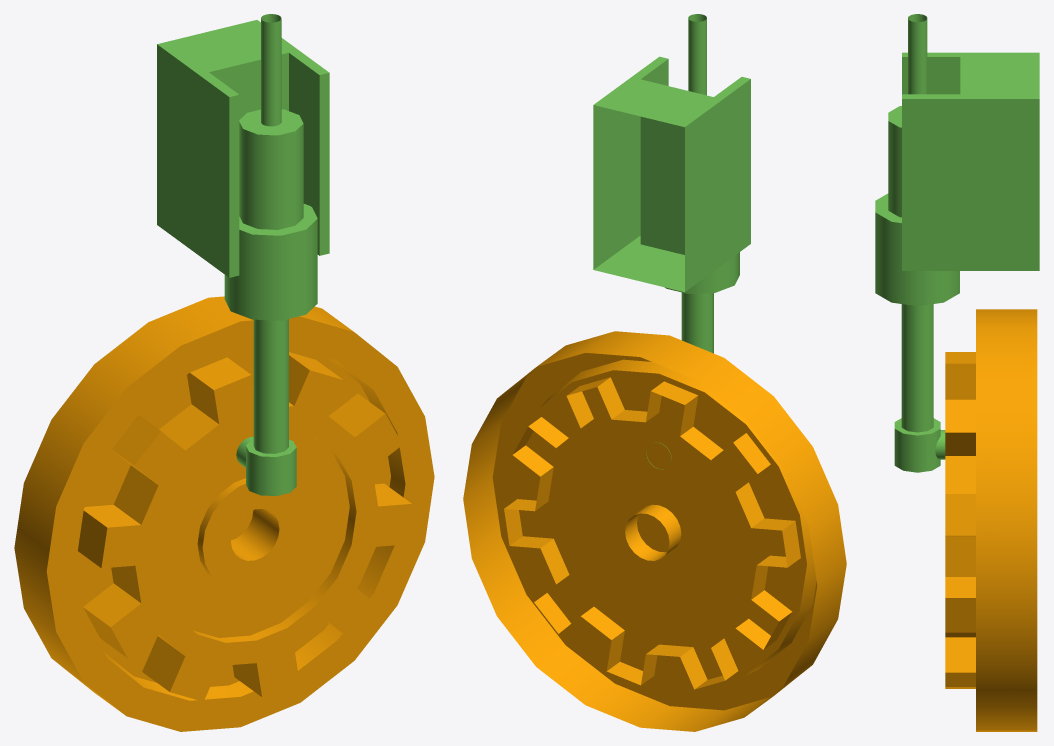
The model's file is Mesh_WorldDecor_Piston.fbx.
The picture shows the model from 3 angles, left to right: view 1: azimuth 30°, elevation 25°; view 2: azimuth 150°, elevation 25°; view 3: azimuth 270°, elevation 25°; orthographic projection. The views are drawn at different scales.
Visible parts, largest first — view 1: Gear, Gear_Shell, Piston_Holder, Piston_Case, Piston_Rod, Piston_Exit_Rod; view 2: Gear_Shell, Piston_Holder, Gear, Piston_Rod, Piston_Exit_Rod, Piston_Case; view 3: Piston_Holder, Gear_Shell, Gear, Piston_Rod, Piston_Case, Piston_Exit_Rod.
Part boxes in pixels (x1,y1,x2,y2): Gear: (78,352,411,701); Gear_Shell: (14,296,434,731); Piston_Holder: (157,20,329,277); Piston_Case: (224,109,317,320); Piston_Rod: (246,319,296,495); Piston_Exit_Rod: (261,14,281,126); Gear_Shell: (463,331,846,731); Piston_Holder: (593,56,750,292); Gear: (504,377,800,689); Piston_Rod: (681,292,713,353); Piston_Exit_Rod: (688,14,706,95); Piston_Case: (665,252,739,293); Piston_Holder: (902,52,1039,270); Gear_Shell: (976,309,1037,731); Gear: (945,352,975,688); Piston_Rod: (894,304,940,472); Piston_Case: (875,106,959,306); Piston_Exit_Rod: (908,14,927,94).
Size of the model in its own units: 534 by 963 by 206.
